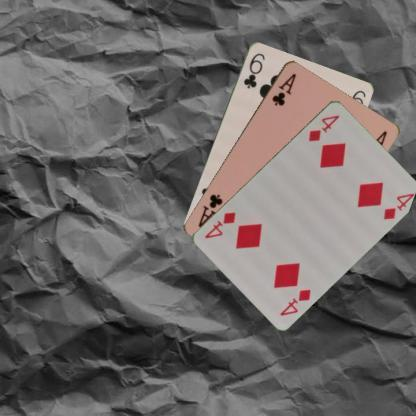4d: (278, 286, 312, 317), (306, 112, 341, 142)
6c: (240, 50, 266, 90)
Ac: (269, 70, 298, 107)
